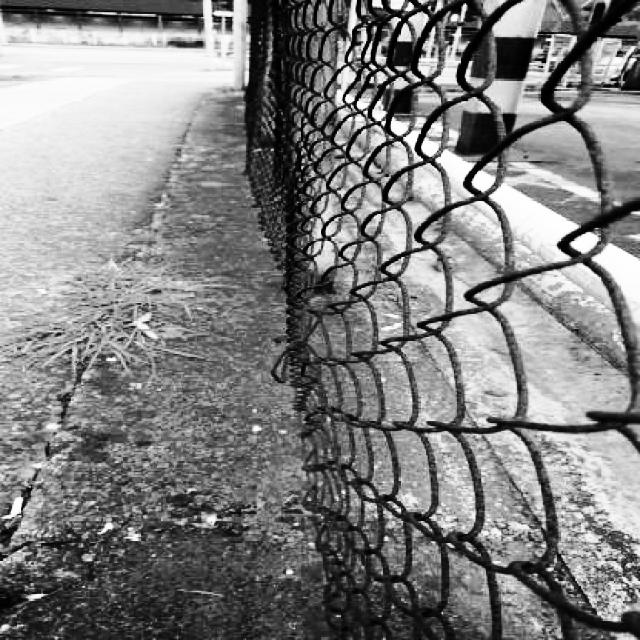fences: (300, 8, 638, 604)
